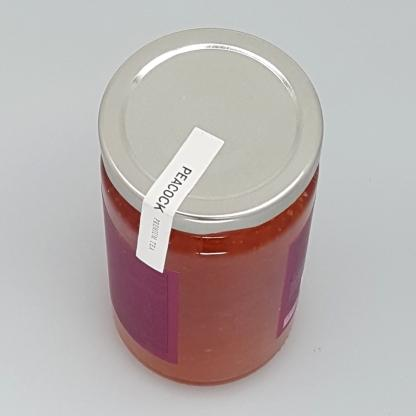---------------400G: (96, 26, 323, 386)
